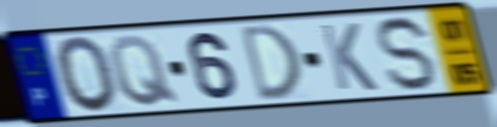6: (186, 30, 240, 104)
D: (237, 21, 305, 105)
K: (316, 21, 381, 93)
O: (53, 34, 120, 116)
Q: (105, 33, 182, 109)
S: (375, 14, 440, 94)
